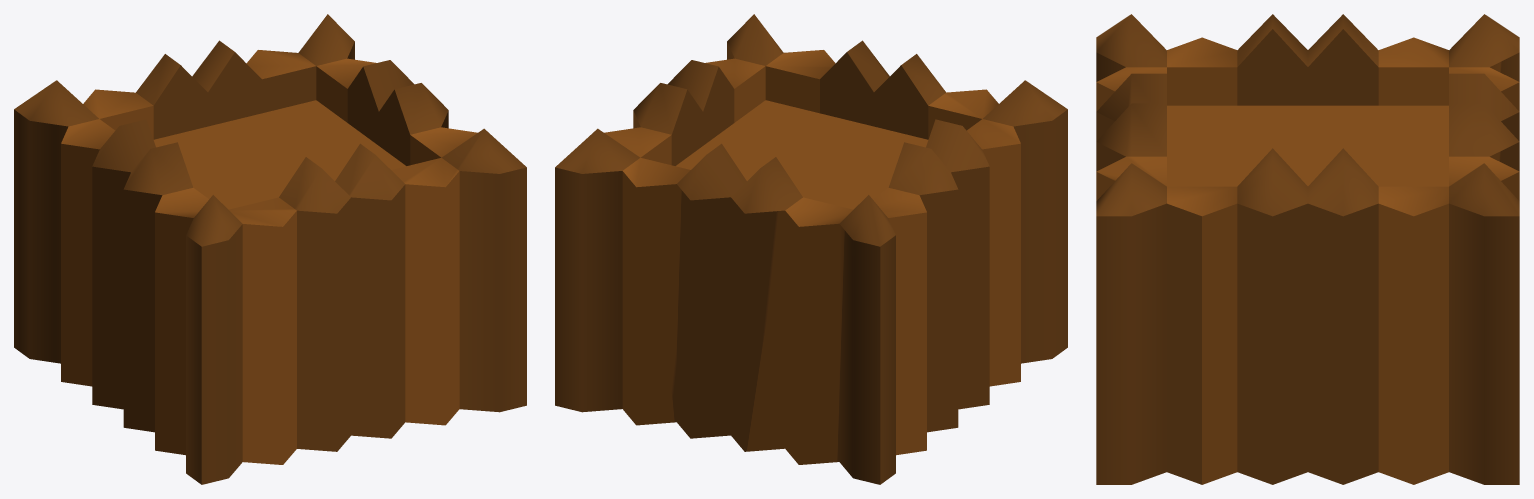
Rendered from 1x1x5_fulltop_wood.fbx.
3 views of the same model, side by side, from view 1: azimuth 30°, elevation 25°; view 2: azimuth 150°, elevation 25°; view 3: azimuth 270°, elevation 25° (orthographic). The views are drawn at different scales.
Parts seen in each view (by area): view 1: polySurface1; view 2: polySurface1; view 3: polySurface1.
Part boxes in pixels (bbox=[...]): polySurface1: bbox=[14, 14, 526, 484]; polySurface1: bbox=[555, 14, 1067, 484]; polySurface1: bbox=[1096, 14, 1519, 484].
Bounding box in the file's own units: 100 × 80 × 100.
Materials: 1 (1 with a texture image).
